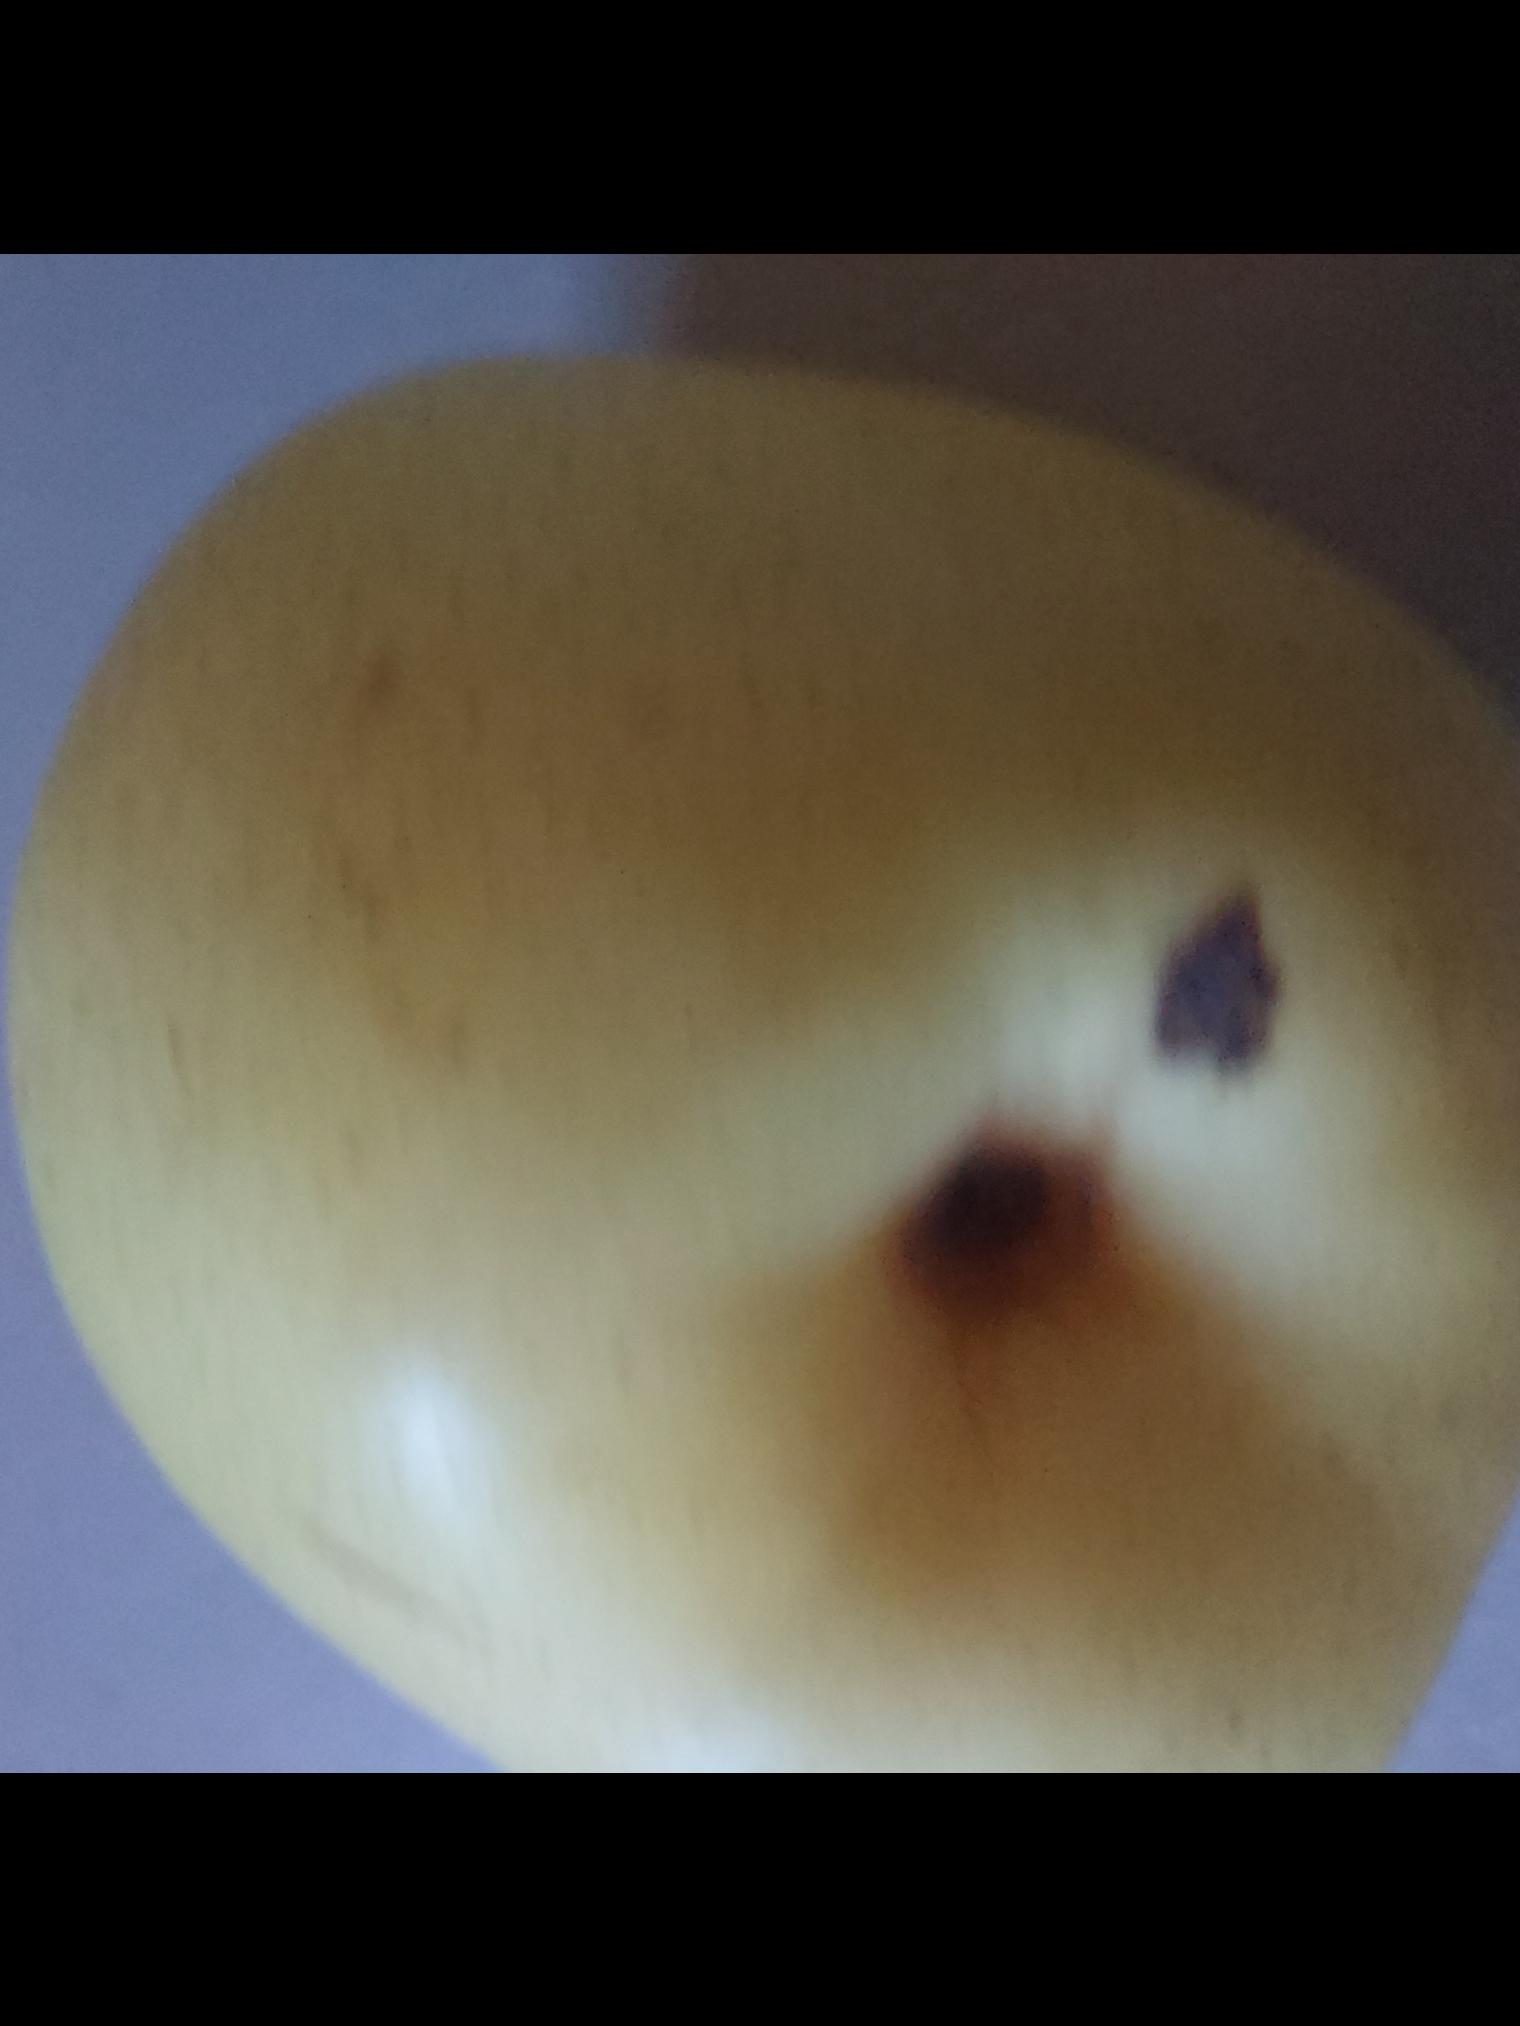Good Pear: (0, 311, 1520, 1774)
